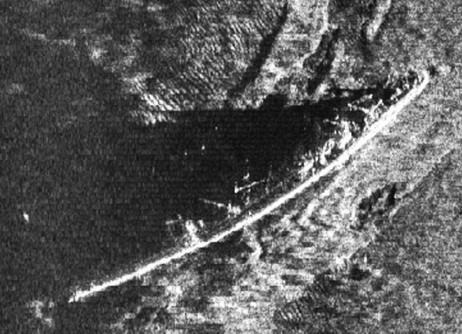ship: (71, 72, 425, 300)
